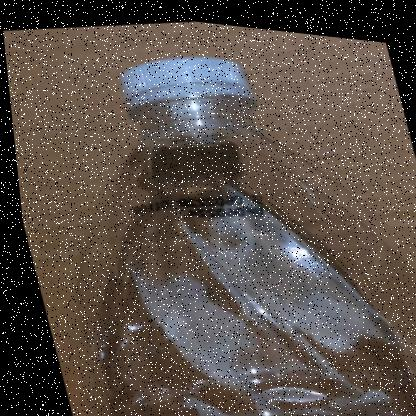bottle cap: (1, 1, 416, 356)
